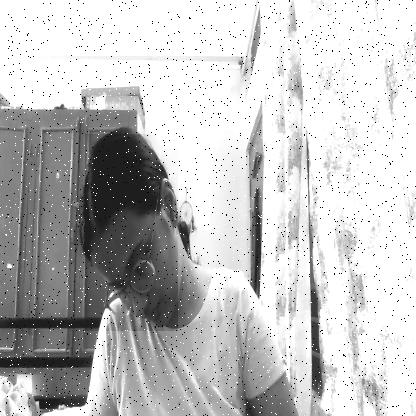Distracted: (85, 134, 178, 331)
